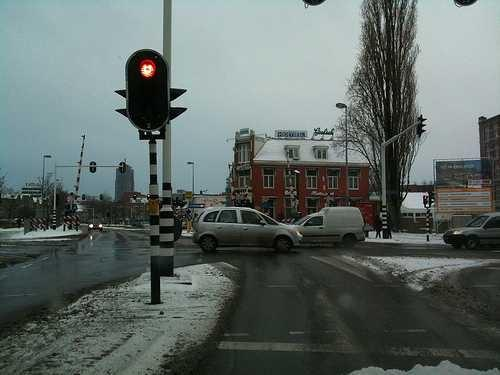red: (130, 51, 166, 129), (130, 52, 162, 83)
